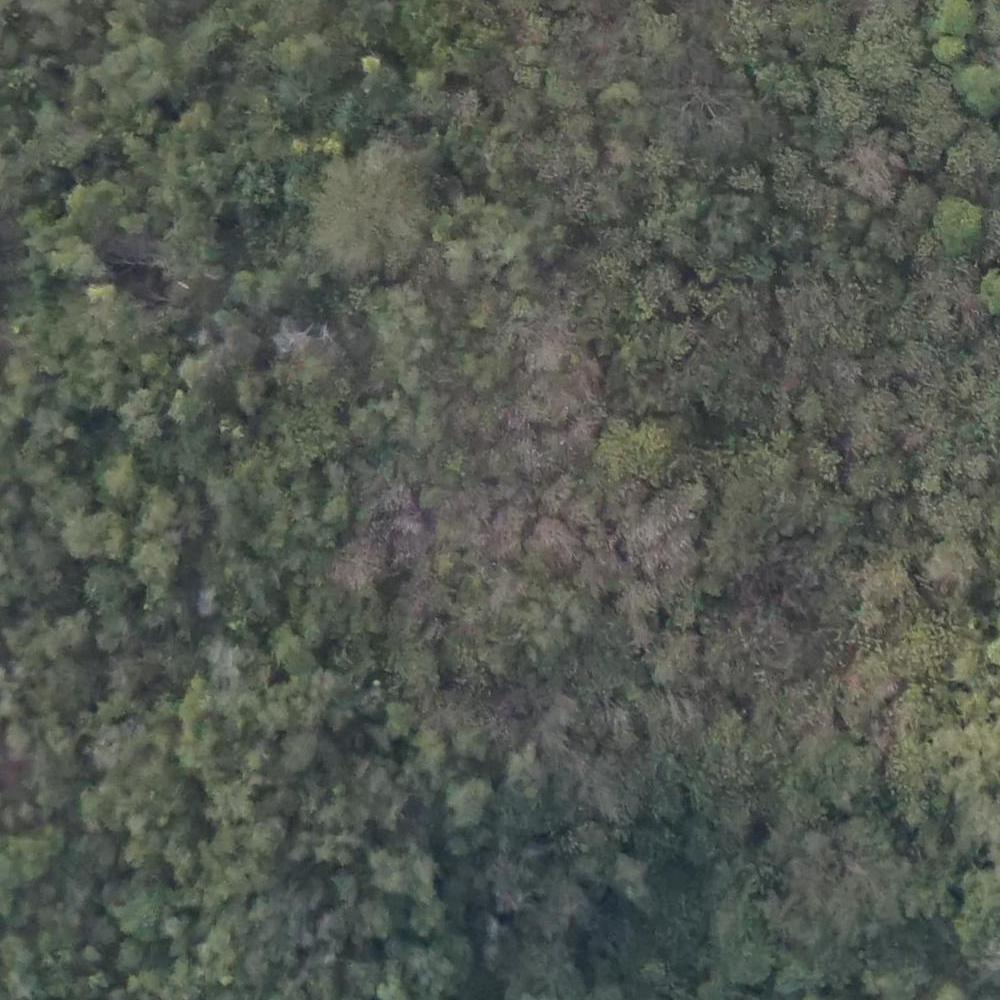tree: (315, 164, 422, 274), (848, 17, 922, 96), (594, 423, 669, 488), (118, 876, 186, 943), (369, 843, 432, 901), (287, 344, 346, 404), (65, 512, 128, 566), (643, 632, 703, 688), (45, 234, 105, 289), (110, 36, 166, 92), (328, 537, 388, 589), (522, 317, 575, 375), (928, 198, 983, 252), (528, 517, 582, 572), (847, 440, 904, 492), (933, 542, 982, 600), (462, 450, 511, 506), (86, 452, 139, 503), (792, 4, 842, 58), (721, 927, 768, 983), (293, 488, 340, 544), (853, 386, 902, 439), (518, 382, 571, 429), (448, 775, 492, 829), (442, 236, 491, 284), (229, 268, 282, 312), (88, 718, 132, 770), (262, 685, 307, 732), (383, 275, 423, 327), (116, 390, 161, 435), (506, 752, 552, 795), (137, 543, 192, 577), (461, 346, 503, 385), (140, 489, 172, 536), (201, 929, 237, 969), (675, 177, 712, 215), (211, 785, 248, 823), (932, 30, 967, 66), (378, 702, 413, 736), (406, 65, 438, 101), (844, 193, 871, 230)
